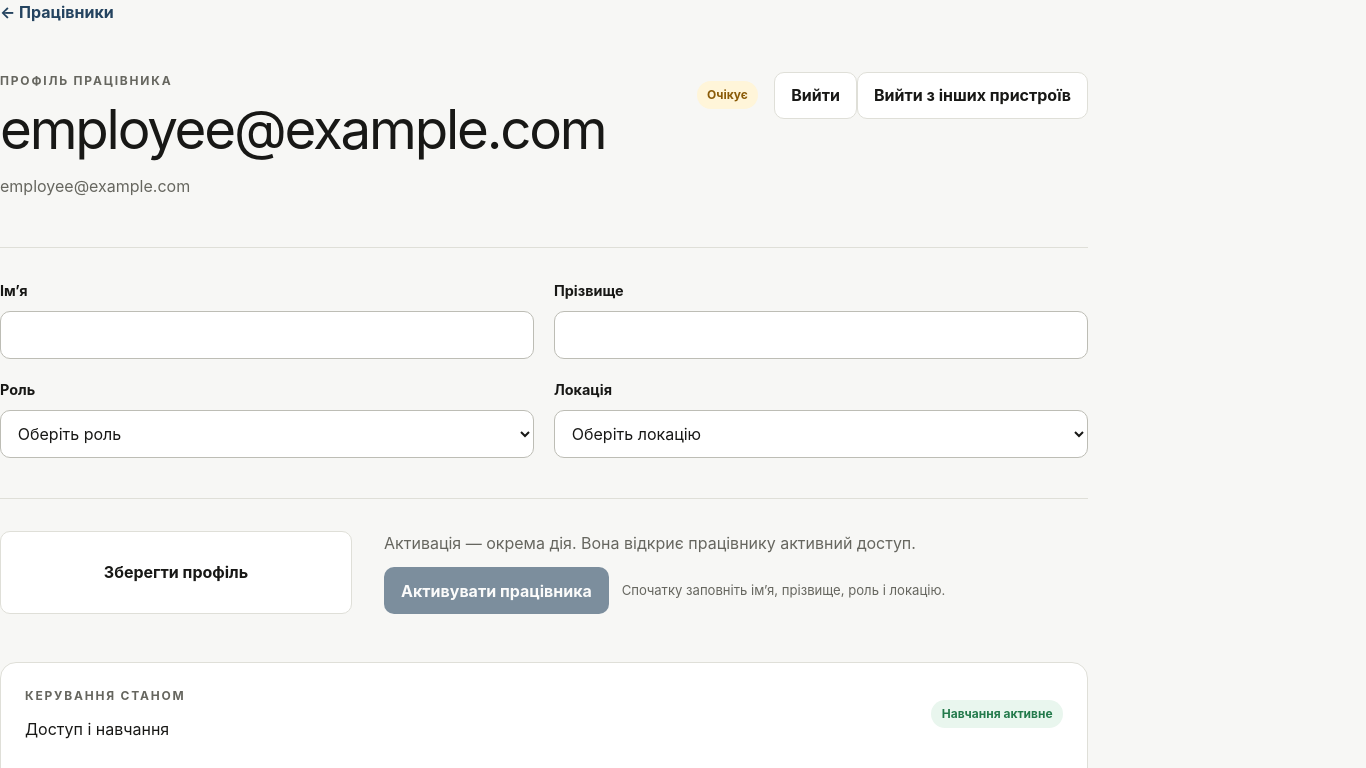
it: Admin Employee flow › keeps profile save and explicit Activation as separate server actions
In the field labelled "Ім’я": (267, 335) [0,311,534,359], type "Анна"
In the field labelled "Прізвище": (821, 335) [554,311,1088,359], type "Коваль"
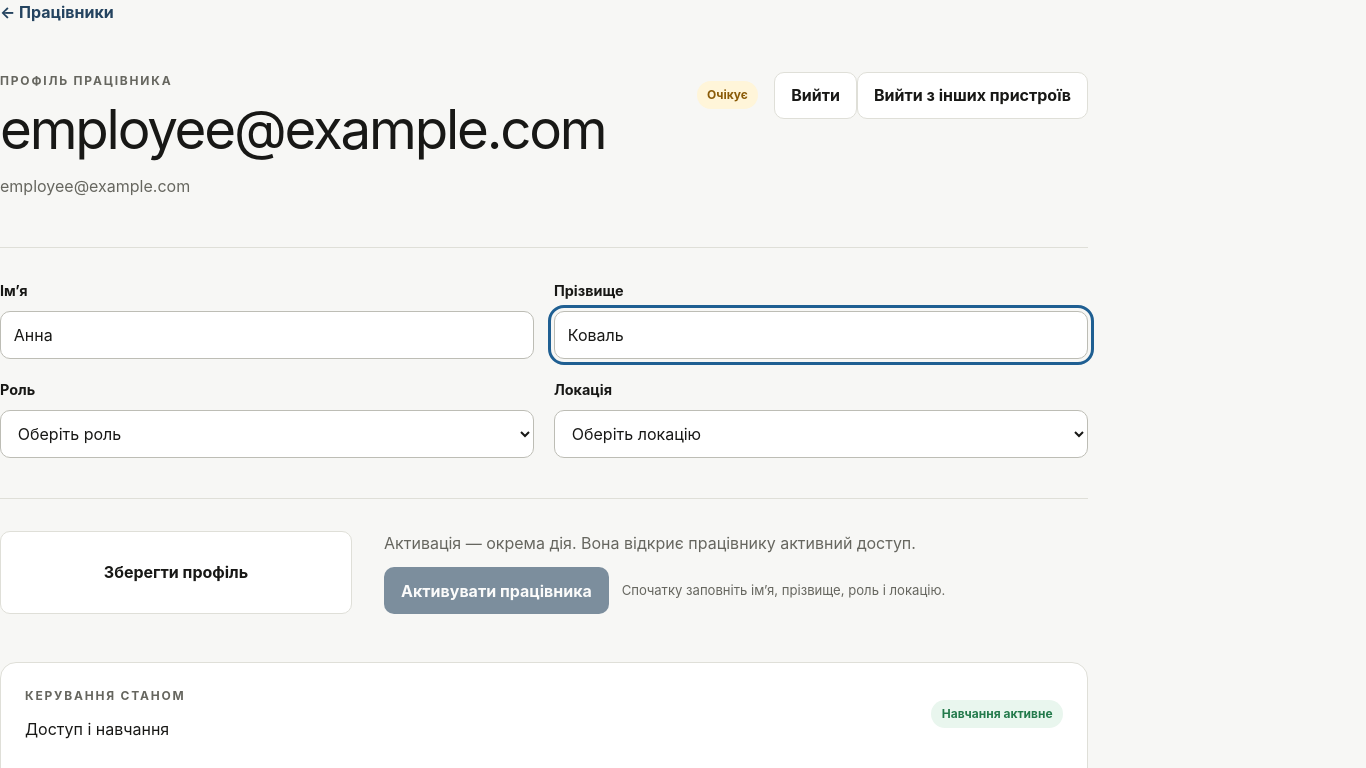
Select "Офіціант" in the dropdown labelled "Роль": (267, 434) [0,410,534,458]
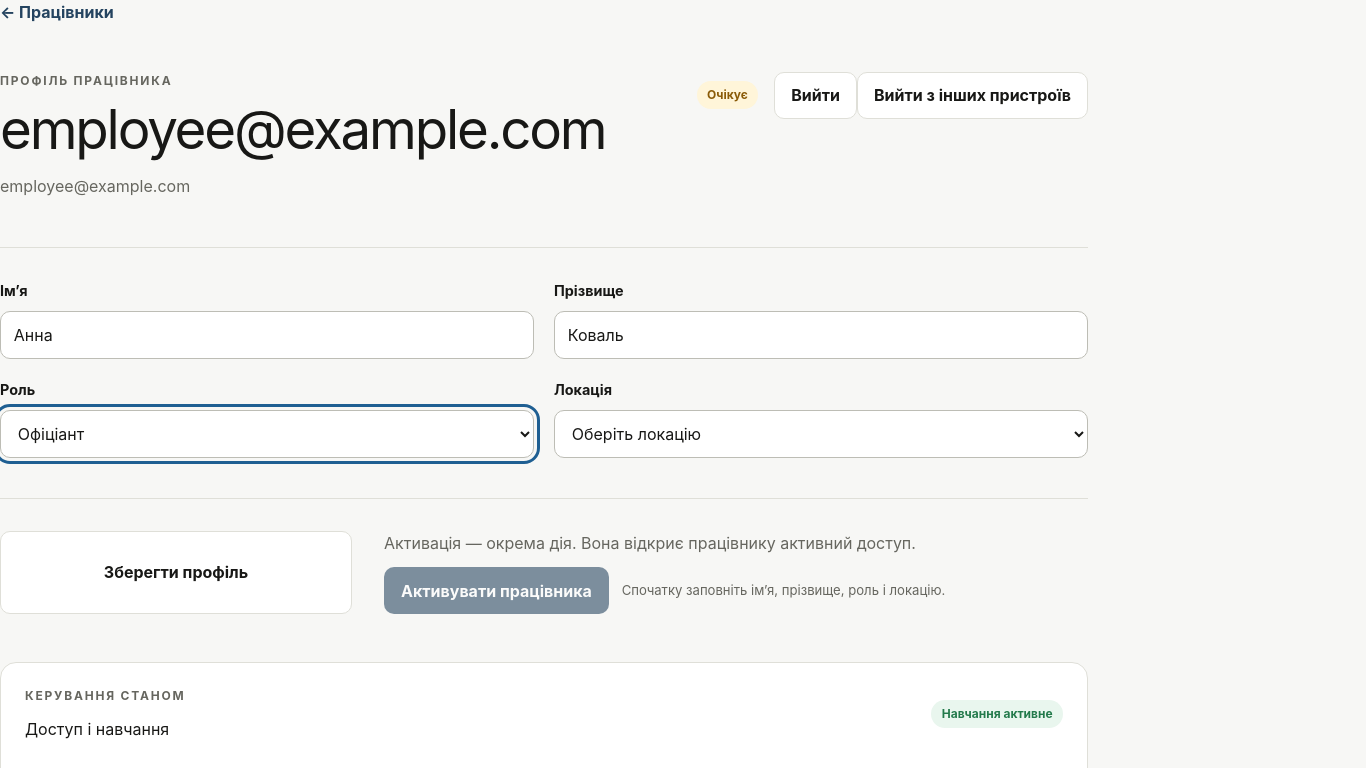
Select "Хрещатик" in the dropdown labelled "Локація": (821, 434) [554,410,1088,458]
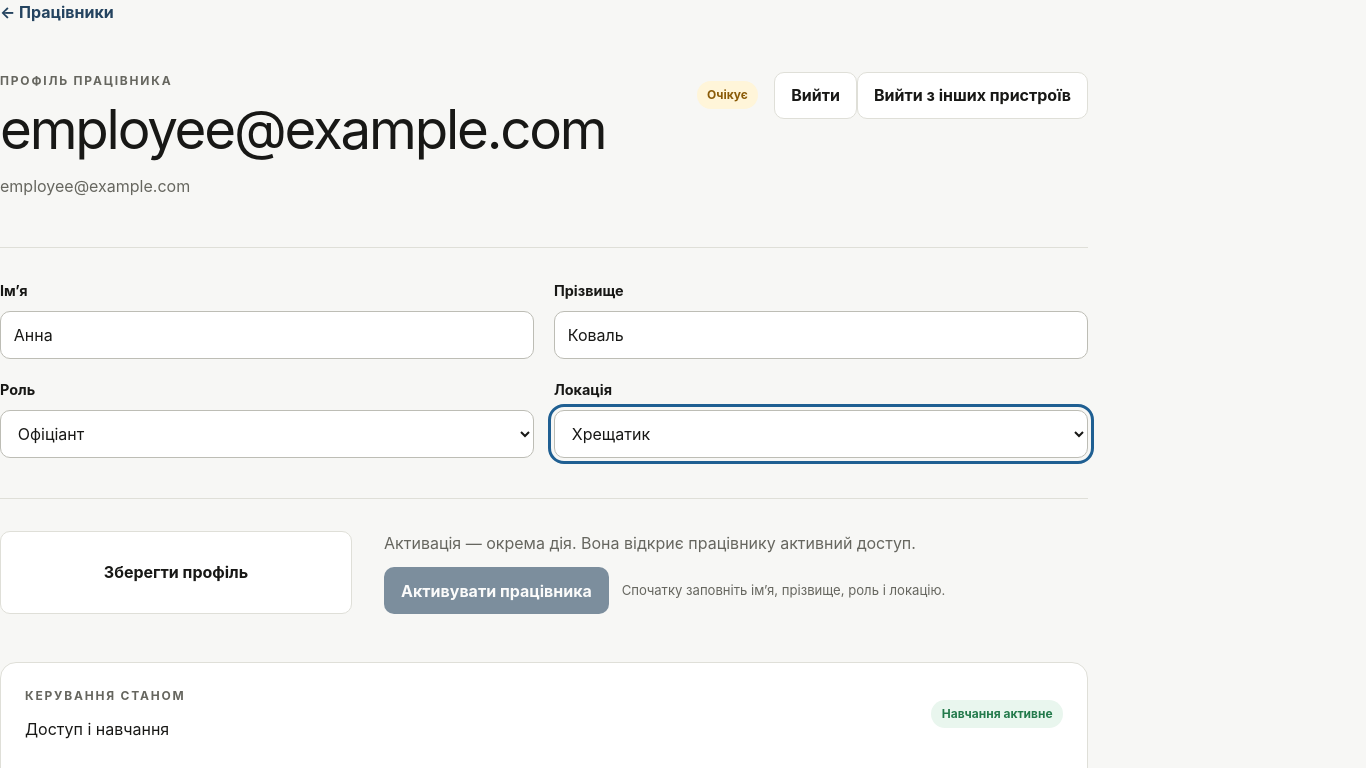
Click the button "Зберегти профіль": (176, 572) [0,530,352,614]
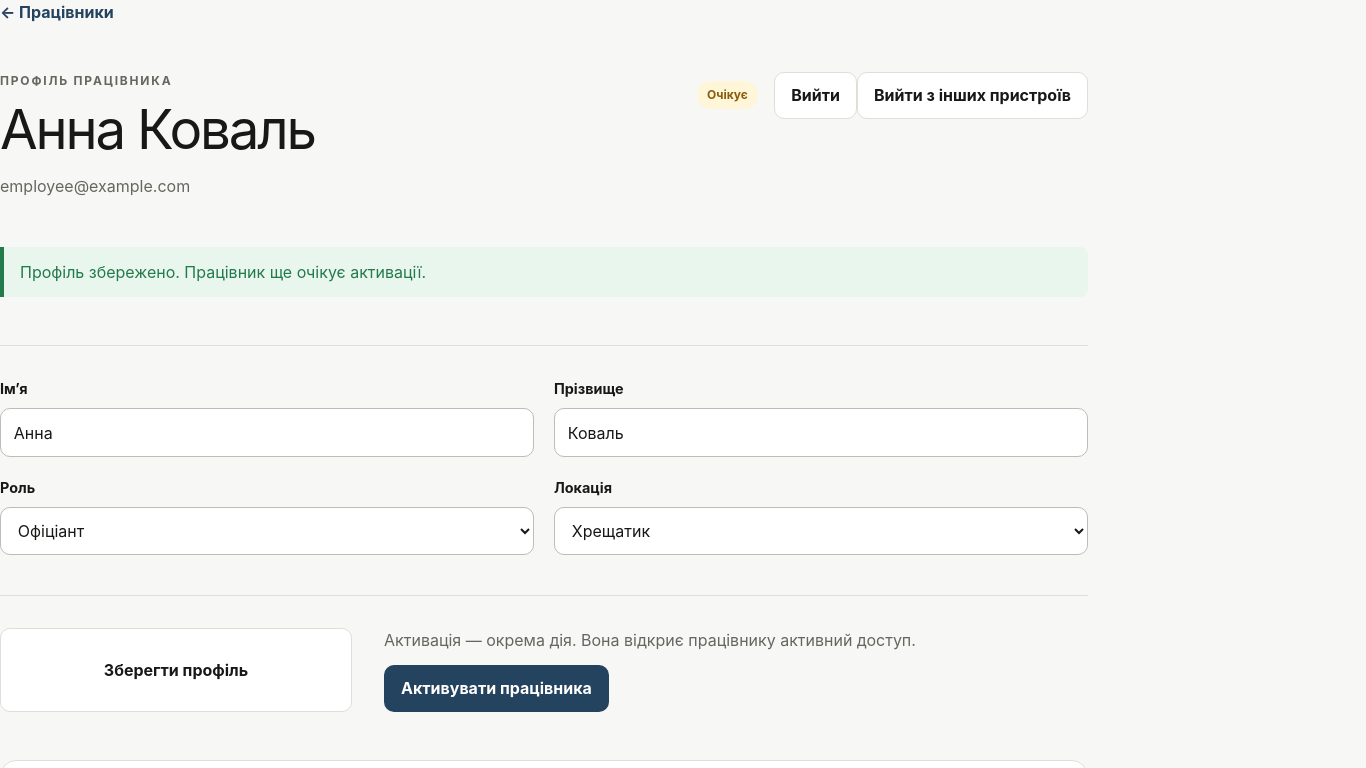
Now the text "Профіль збережено. Працівник ще очікує активації." is shown, box [0,247,1088,297]
Click the button "Активувати працівника": (496, 688) [384,665,609,712]
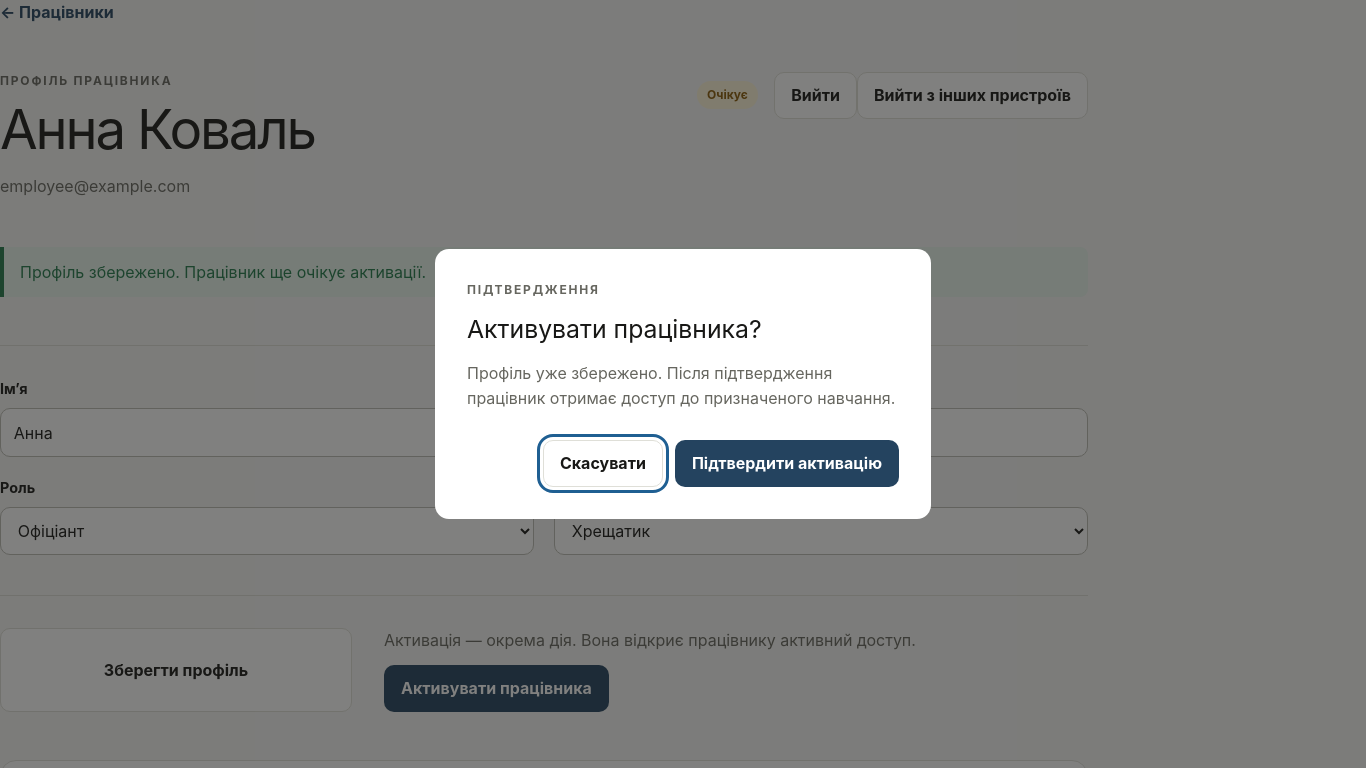
Click the button "Підтвердити активацію": (787, 463) [675,440,899,487]
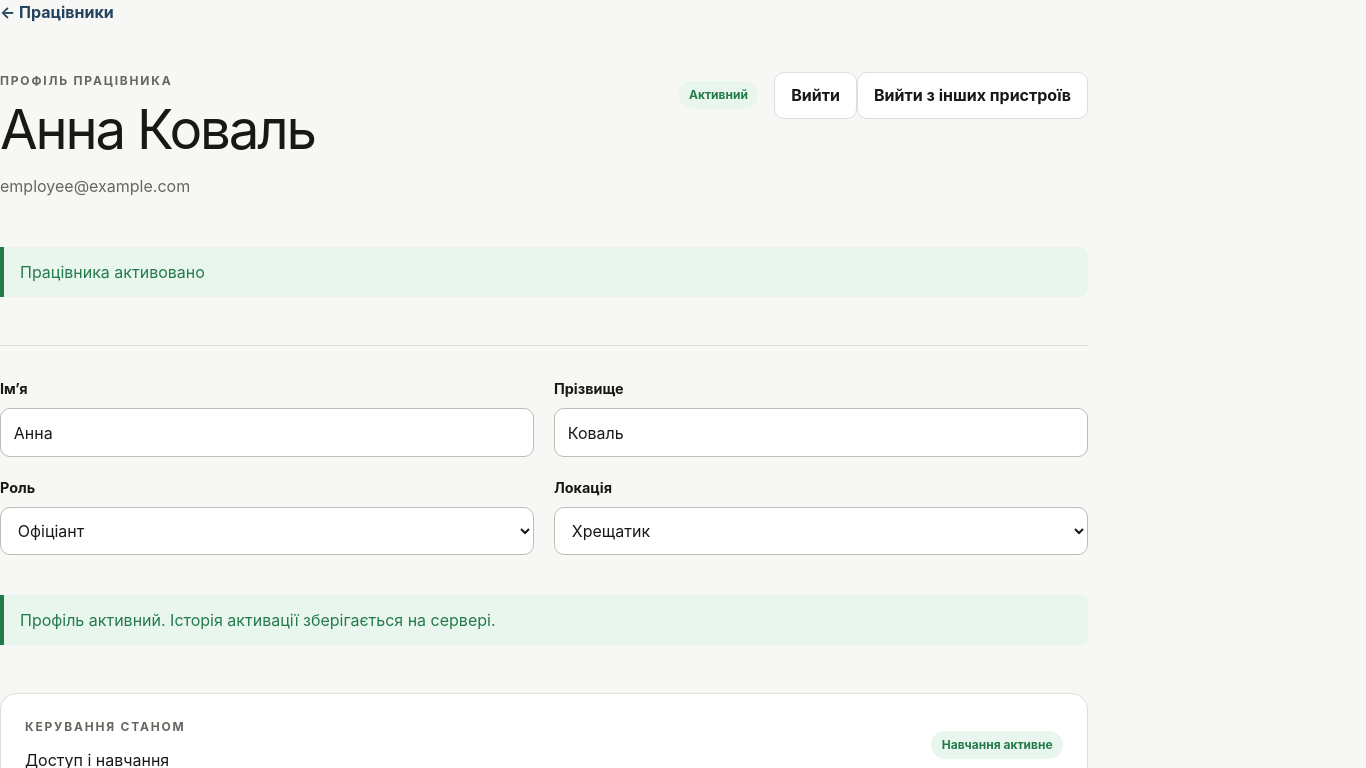
Now the text "Працівника активовано" is shown, box [0,247,1088,297]
